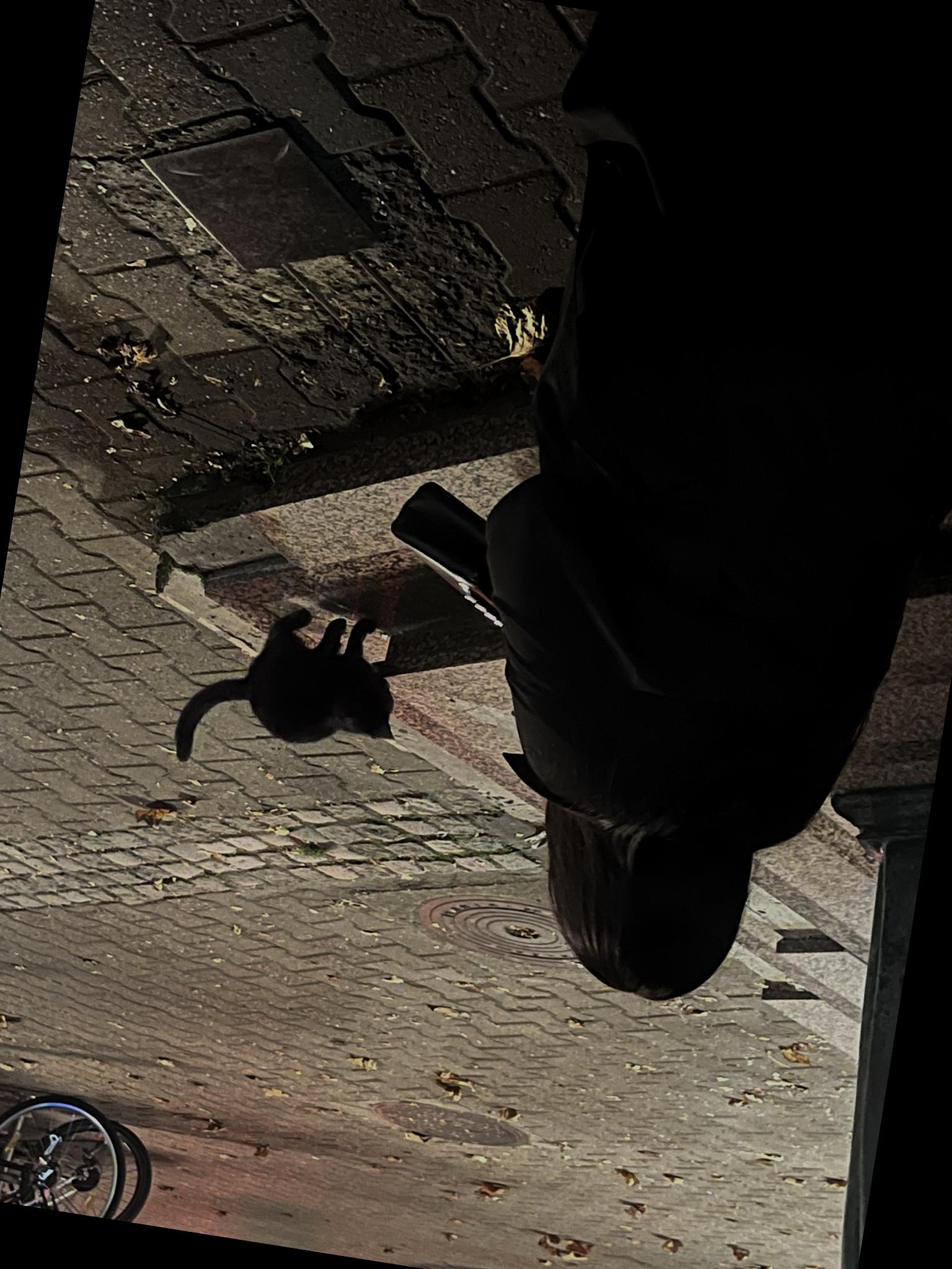macka: (170, 590, 411, 795)
